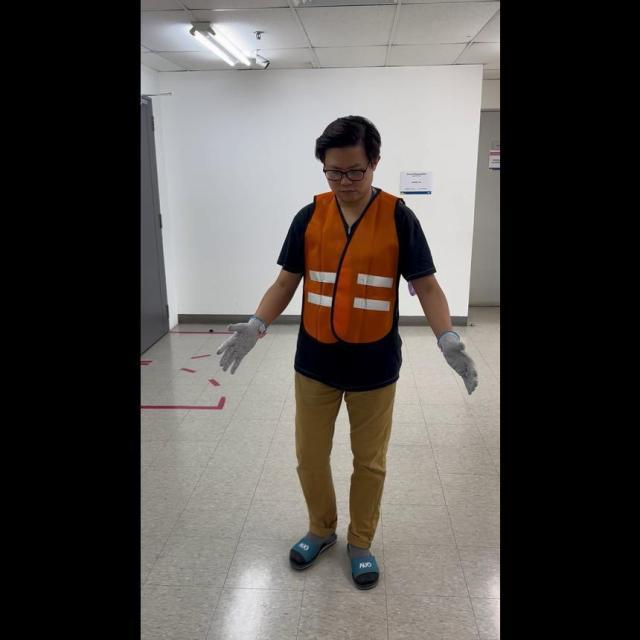gloved_hand: (215, 310, 266, 375), (433, 327, 479, 393)
